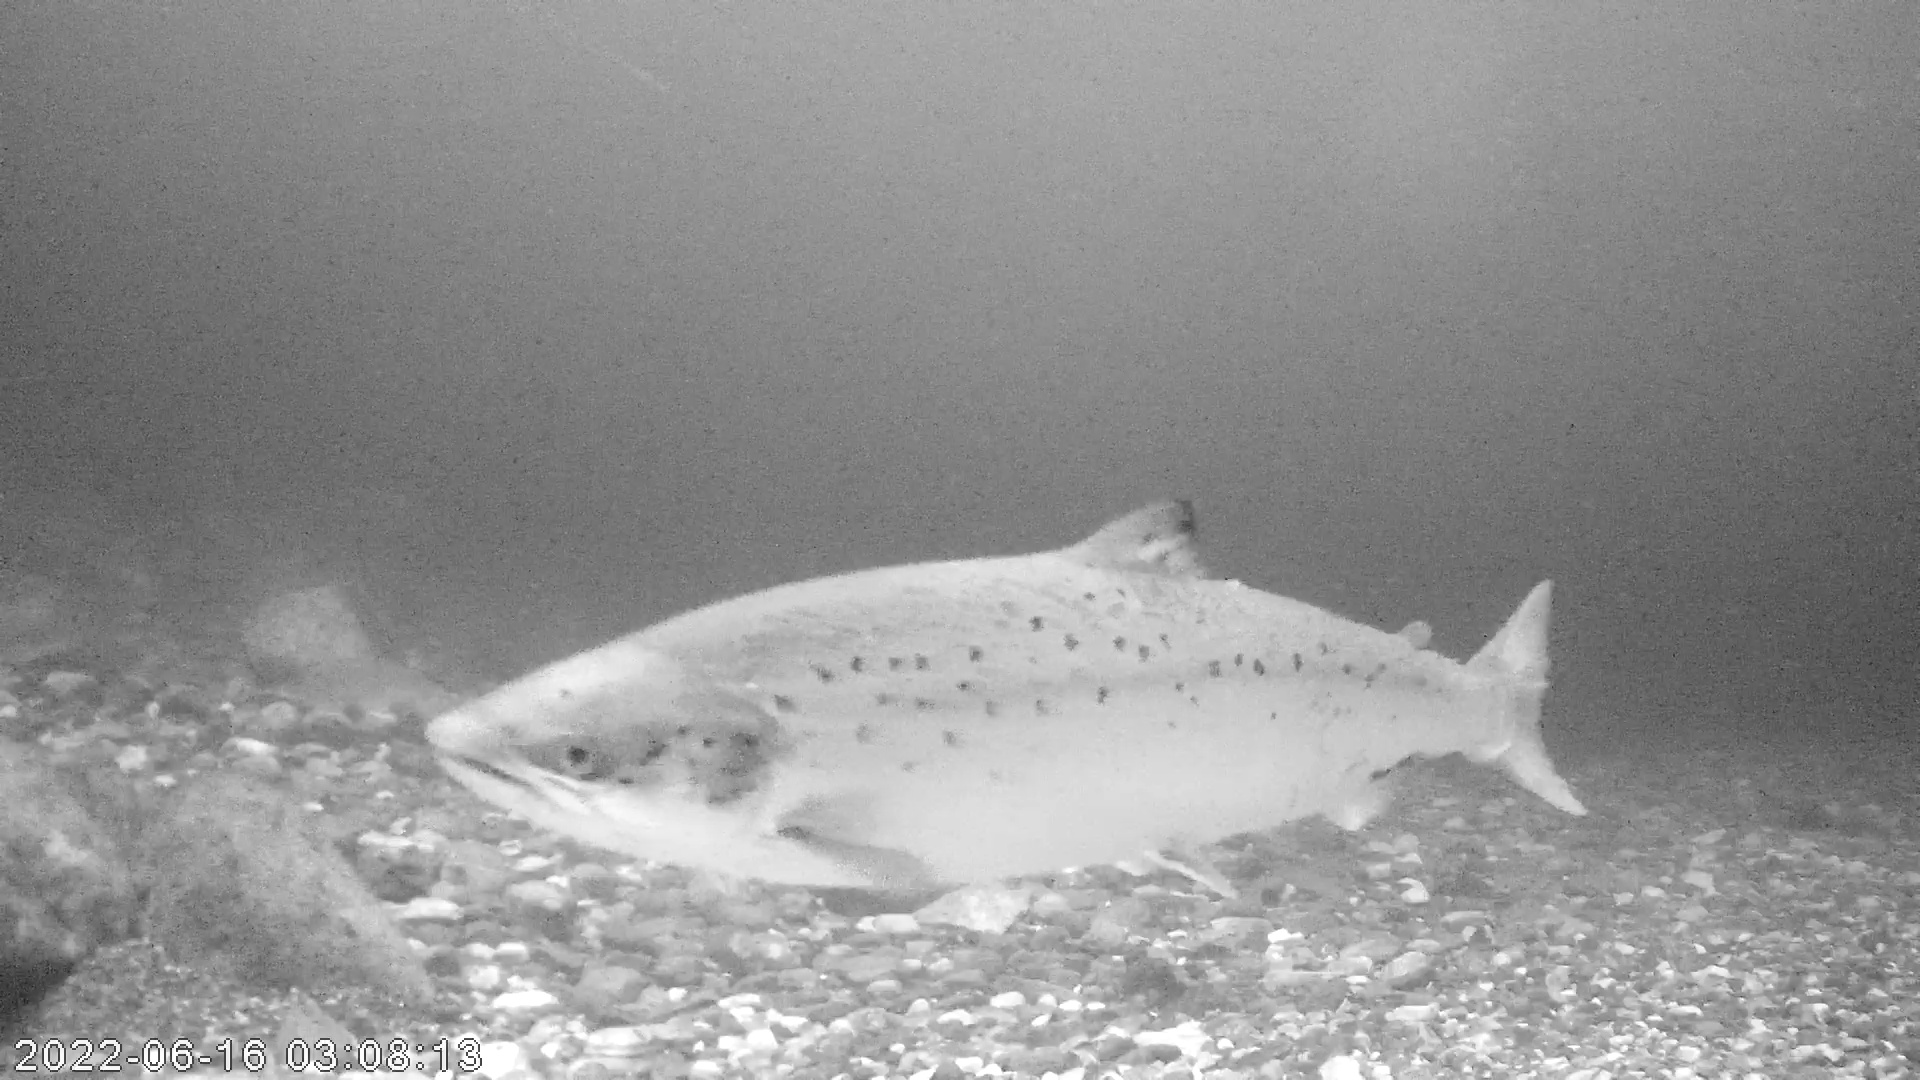salmon: (425, 497, 1588, 893)
